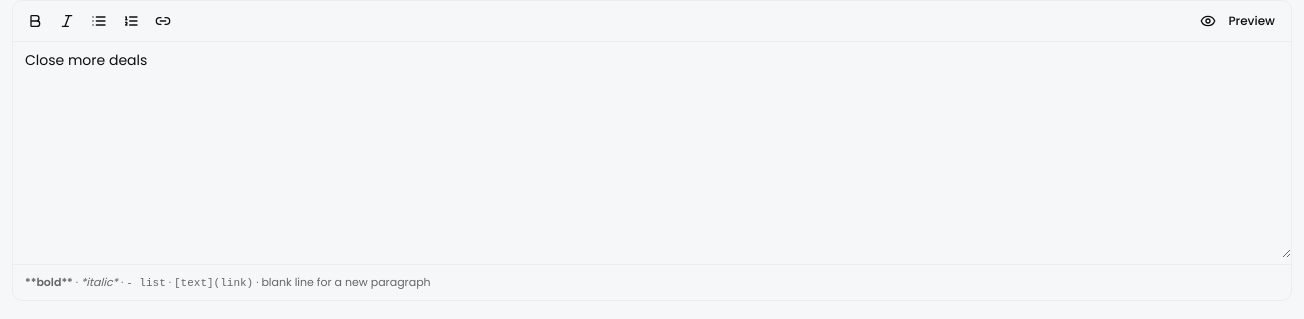
Test: RichTextEditor › formats the selection from the toolbar
This screenshot has width=1304, height=319.
Click the button named "Bold" at (35, 21), box [21,7,49,35]
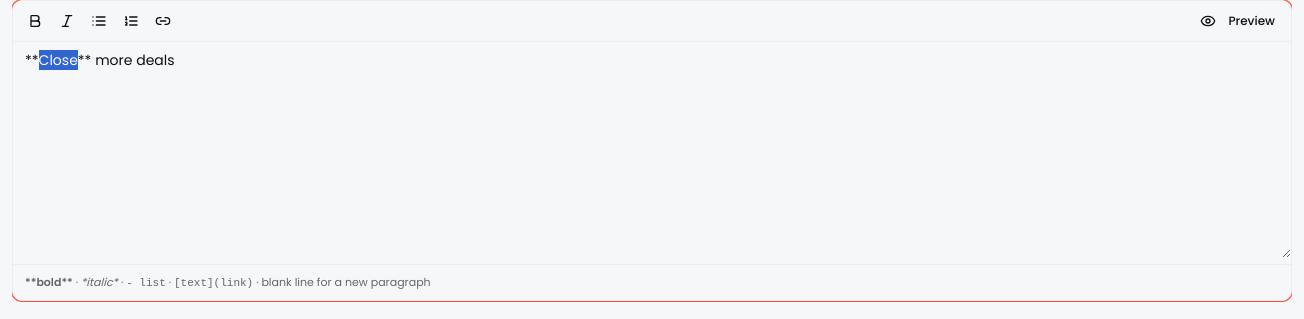
Check: the text box holds "**Close** more deals"
